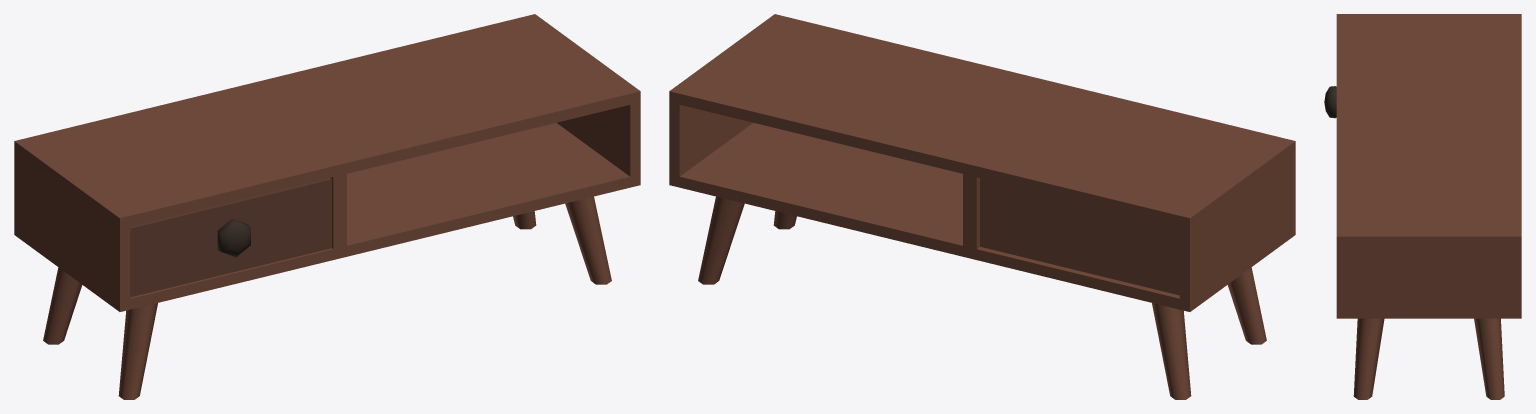
File: CoffeeTable_02.fbx
The picture shows the model from 3 angles, left to right: view 1: azimuth 30°, elevation 25°; view 2: azimuth 150°, elevation 25°; view 3: azimuth 270°, elevation 25°; orthographic projection. The views are drawn at different scales.
Parts seen in each view (by area): view 1: CoffeeTable_02, CoffeeTable_02_Drawer; view 2: CoffeeTable_02; view 3: CoffeeTable_02, CoffeeTable_02_Drawer.
Boxes of the visible parts, box(x1,y1,x2,y2) form: CoffeeTable_02: box(14, 14, 640, 399); CoffeeTable_02_Drawer: box(130, 178, 331, 297); CoffeeTable_02: box(669, 14, 1295, 399); CoffeeTable_02: box(1336, 14, 1521, 399); CoffeeTable_02_Drawer: box(1324, 86, 1336, 118).
Bounding box in the file's own units: 1.33 × 0.4734 × 0.4969.
